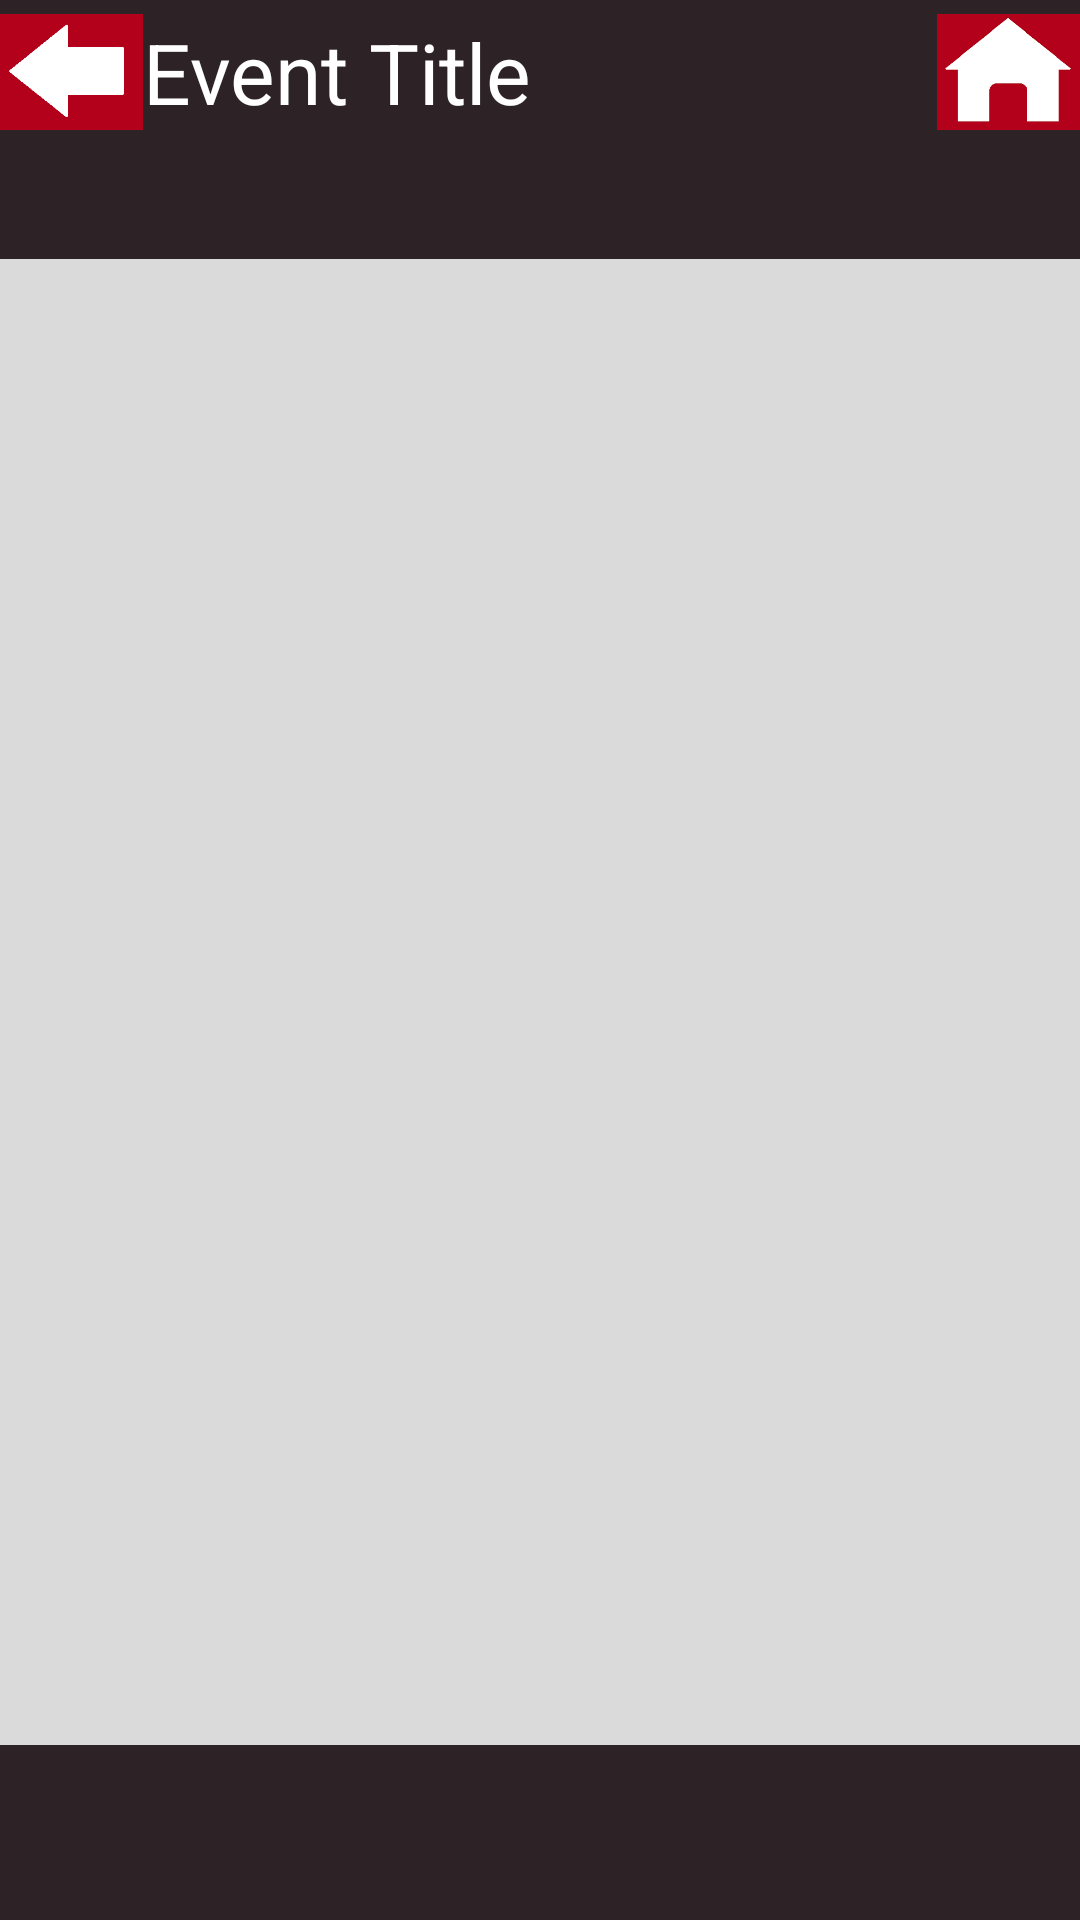

Named icons in this screenshot (1080 × 1920) and their centers, [x,y]:
back: [71,72]
home: [1008,72]
